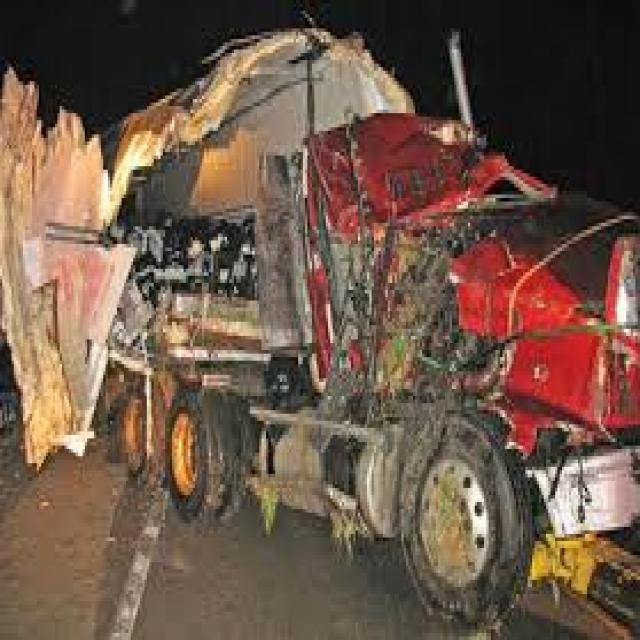accident: (6, 34, 640, 630)
